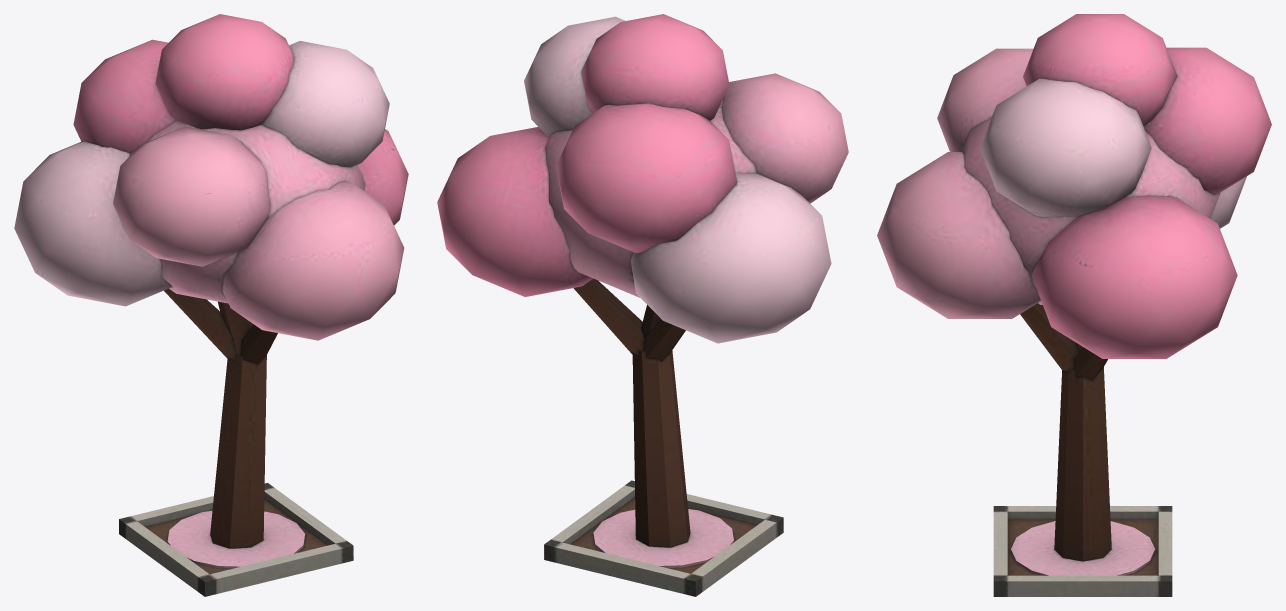
Rendered from cerezo.glb.
The picture shows the model from 3 angles, left to right: view 1: azimuth 30°, elevation 25°; view 2: azimuth 150°, elevation 25°; view 3: azimuth 270°, elevation 25°; orthographic projection. The views are drawn at different scales.
Visible parts, largest first — view 1: cerezo; view 2: cerezo; view 3: cerezo.
Part boxes in pixels (x1,y1,x2,y2): cerezo: [14, 14, 408, 596]; cerezo: [437, 14, 848, 596]; cerezo: [877, 14, 1271, 596].
Bounding box in the file's own units: 2.51 × 3.48 × 2.3.
1 material, 1 textured.
